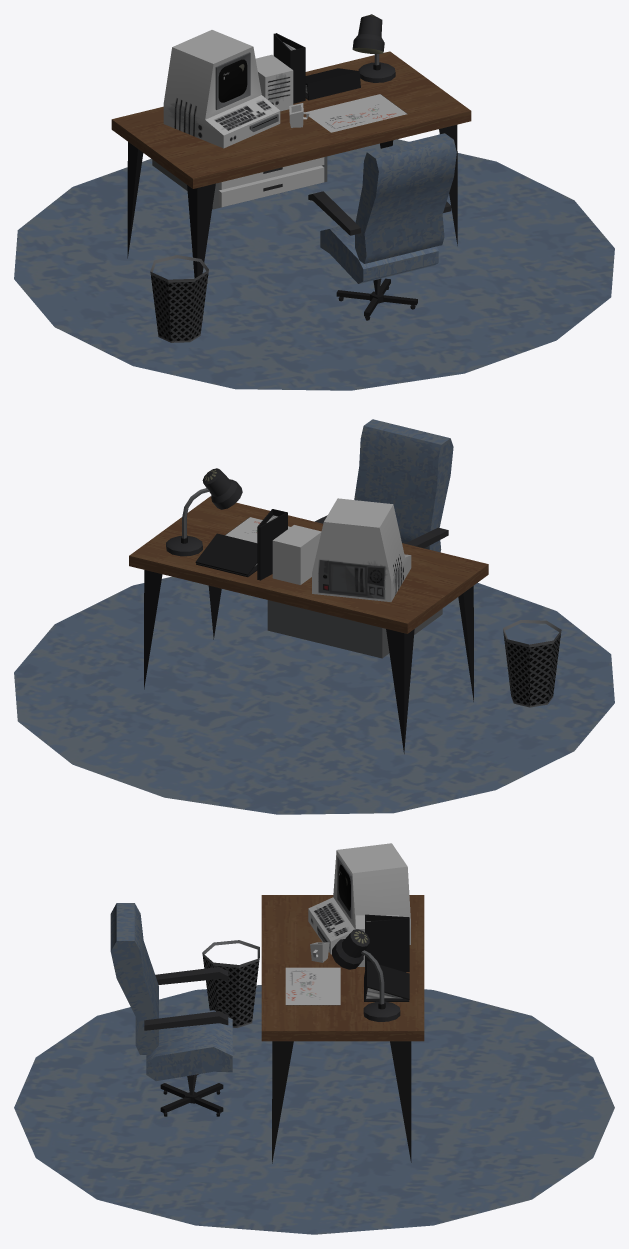
The model's file is computerDesk.glb.
3 views of the same model, one above another, from view 1: azimuth 30°, elevation 25°; view 2: azimuth 150°, elevation 25°; view 3: azimuth 270°, elevation 25° (orthographic).
Visible parts, largest first — view 1: Plane_001_4, Cube_001_5; view 2: Plane_001_4, Cube_001_5; view 3: Plane_001_4, Cube_001_5.
Part boxes in pixels (left/top/right/bottom): Plane_001_4: left=14, top=139, right=614, bottom=390; Cube_001_5: left=111, top=14, right=471, bottom=342; Plane_001_4: left=14, top=576, right=614, bottom=814; Cube_001_5: left=129, top=419, right=561, bottom=753; Plane_001_4: left=14, top=985, right=614, bottom=1234; Cube_001_5: left=110, top=843, right=424, bottom=1163.
Size of the model in its own units: 373 by 147 by 373.
Materials: 2 (2 with a texture image).
